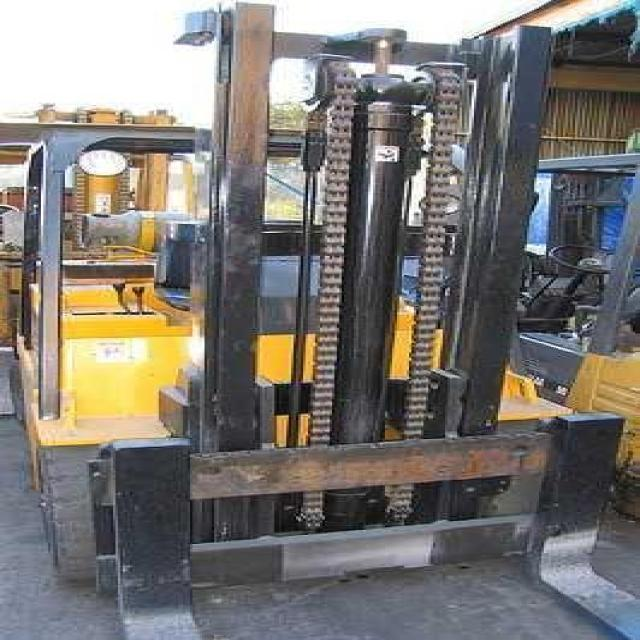forklift: (22, 0, 585, 599)
